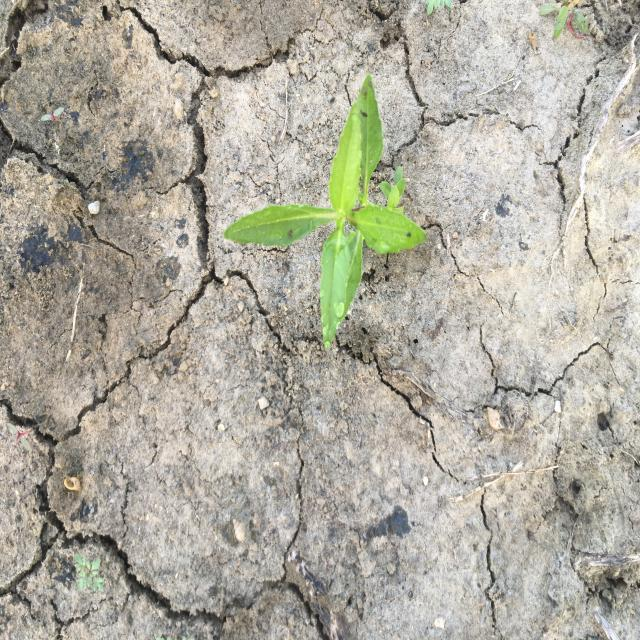Eclipta: (222, 72, 428, 353)
Waterhemp: (537, 1, 592, 42)
